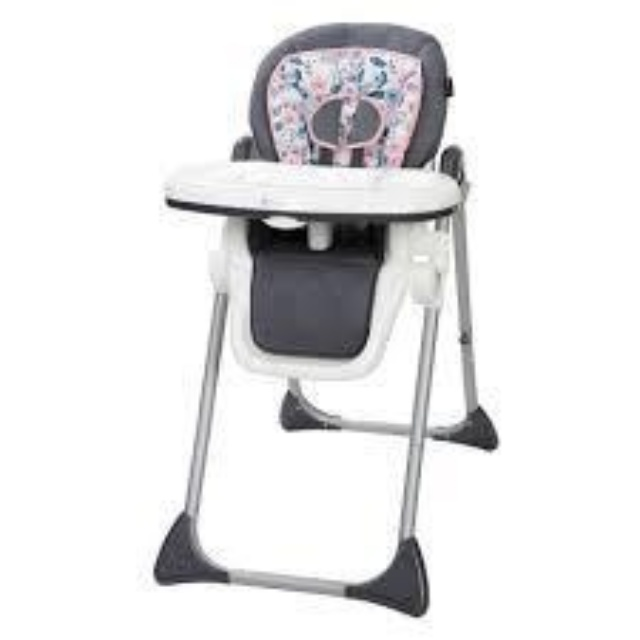obstacle: (154, 23, 495, 614)
